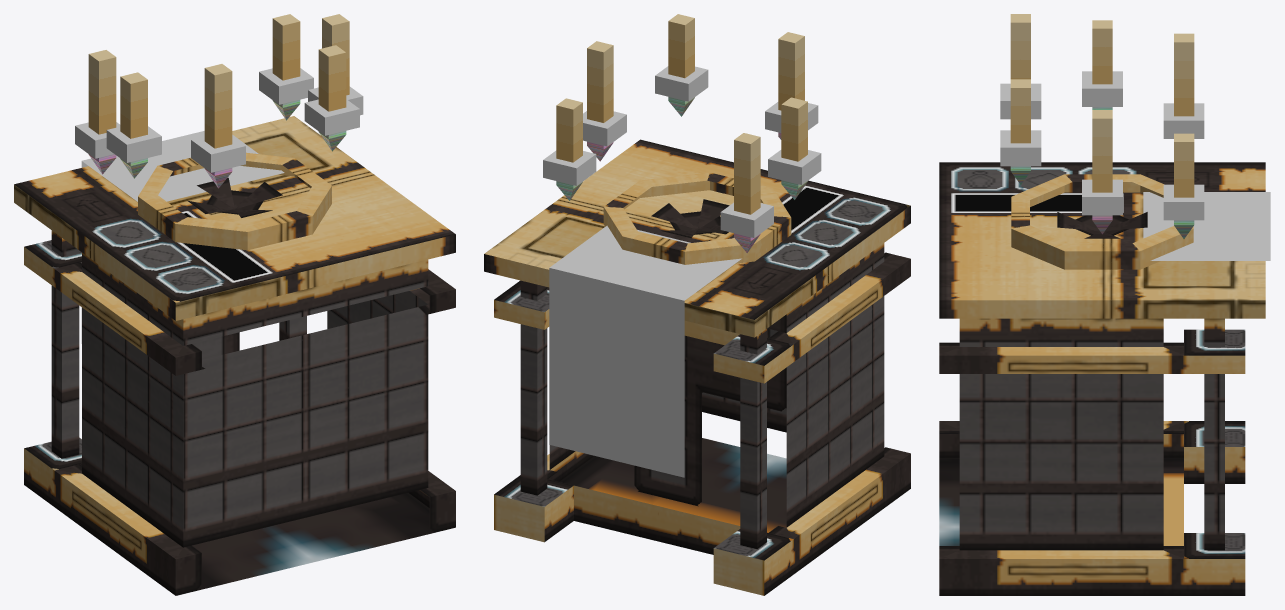
The model's file is altar_of_arcana_inventory.obj.
3 views of the same model, side by side, from view 1: azimuth 30°, elevation 25°; view 2: azimuth 150°, elevation 25°; view 3: azimuth 270°, elevation 25° (orthographic). The views are drawn at different scales.
Parts seen in each view (by area): view 1: DESK_SINGLE_MAIN.006, ENSORCELLATION_INVENTORY_Cube.014, ENSORCELLATION_MAIN_Cylinder.001; view 2: DESK_SINGLE_MAIN.006, ENSORCELLATION_MAIN_Cylinder.001, ENSORCELLATION_INVENTORY_Cube.014; view 3: DESK_SINGLE_MAIN.006, ENSORCELLATION_INVENTORY_Cube.014, ENSORCELLATION_MAIN_Cylinder.001.
Boxes of the visible parts, x1=… form: DESK_SINGLE_MAIN.006: x1=14, y1=116, x2=455, y2=595; ENSORCELLATION_INVENTORY_Cube.014: x1=75, y1=14, x2=363, y2=188; ENSORCELLATION_MAIN_Cylinder.001: x1=81, y1=131, x2=331, y2=343; DESK_SINGLE_MAIN.006: x1=484, y1=139, x2=910, y2=595; ENSORCELLATION_MAIN_Cylinder.001: x1=549, y1=172, x2=791, y2=477; ENSORCELLATION_INVENTORY_Cube.014: x1=543, y1=14, x2=821, y2=252; DESK_SINGLE_MAIN.006: x1=939, y1=162, x2=1265, y2=595; ENSORCELLATION_INVENTORY_Cube.014: x1=1000, y1=14, x2=1204, y2=238; ENSORCELLATION_MAIN_Cylinder.001: x1=1011, y1=174, x2=1270, y2=269.
Size of the model in its own units: 1 by 1.62 by 1.02.
